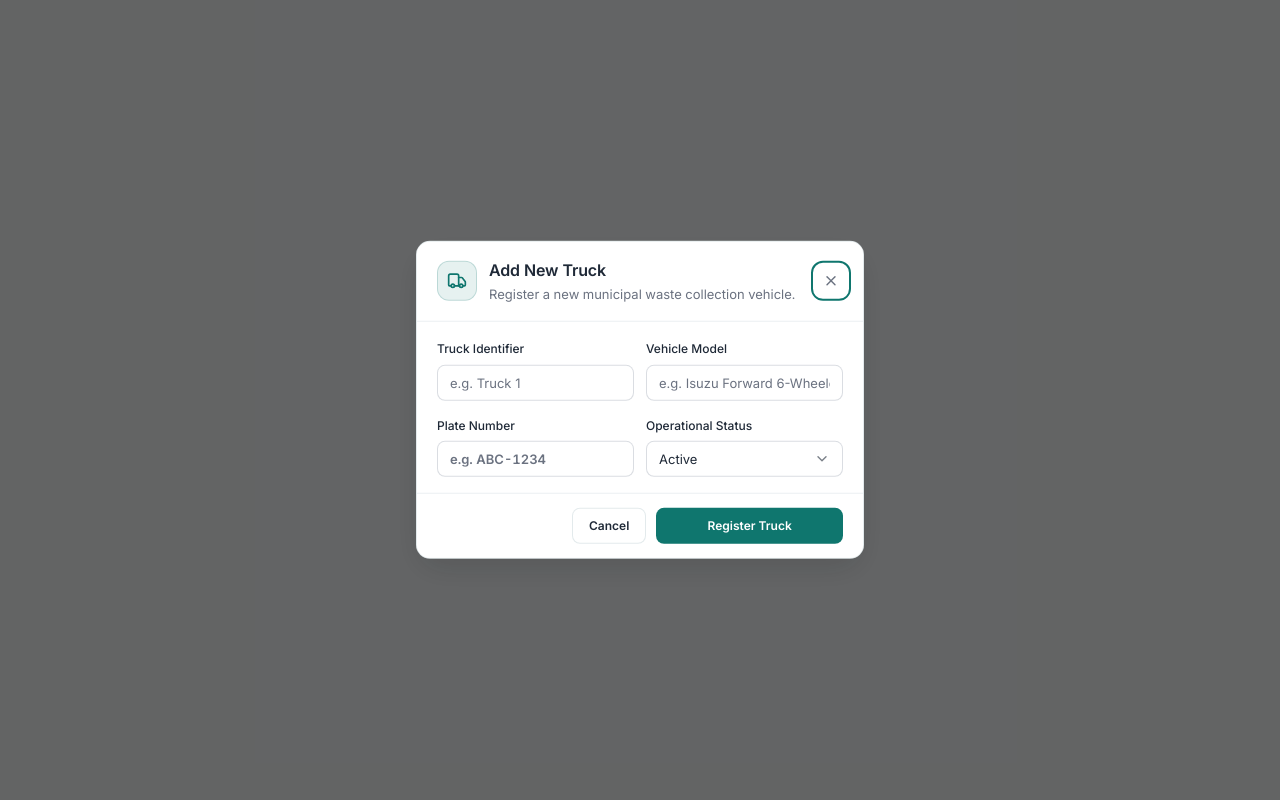
Test: truck editor unsaved changes › keeps field labels neutral when validation highlights inputs
Click the button "Register Truck": (750, 526) x1=656 y1=508 x2=843 y2=544
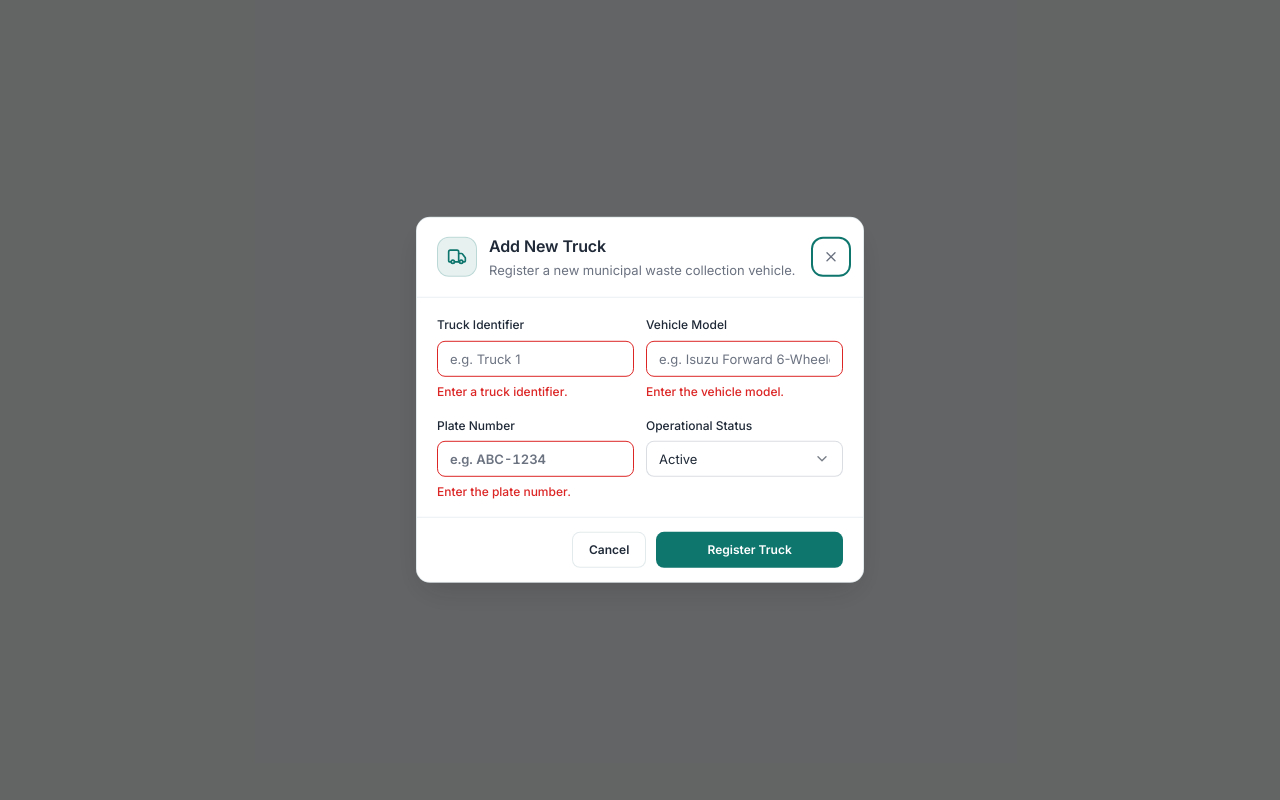
Expected: the text "Enter a truck identifier." is shown, x1=437 y1=383 x2=568 y2=398
